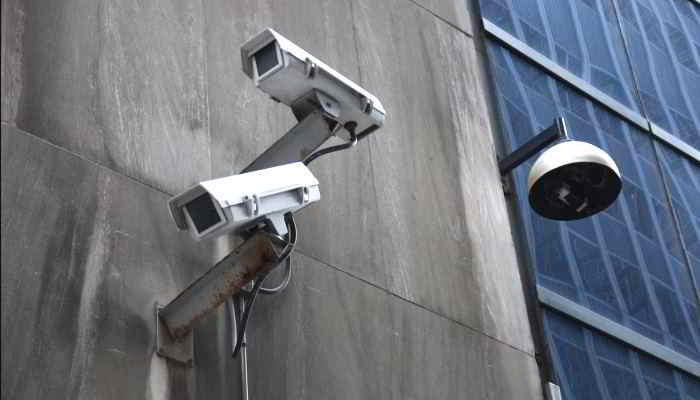Monitor: (239, 26, 386, 143), (167, 160, 321, 241)
